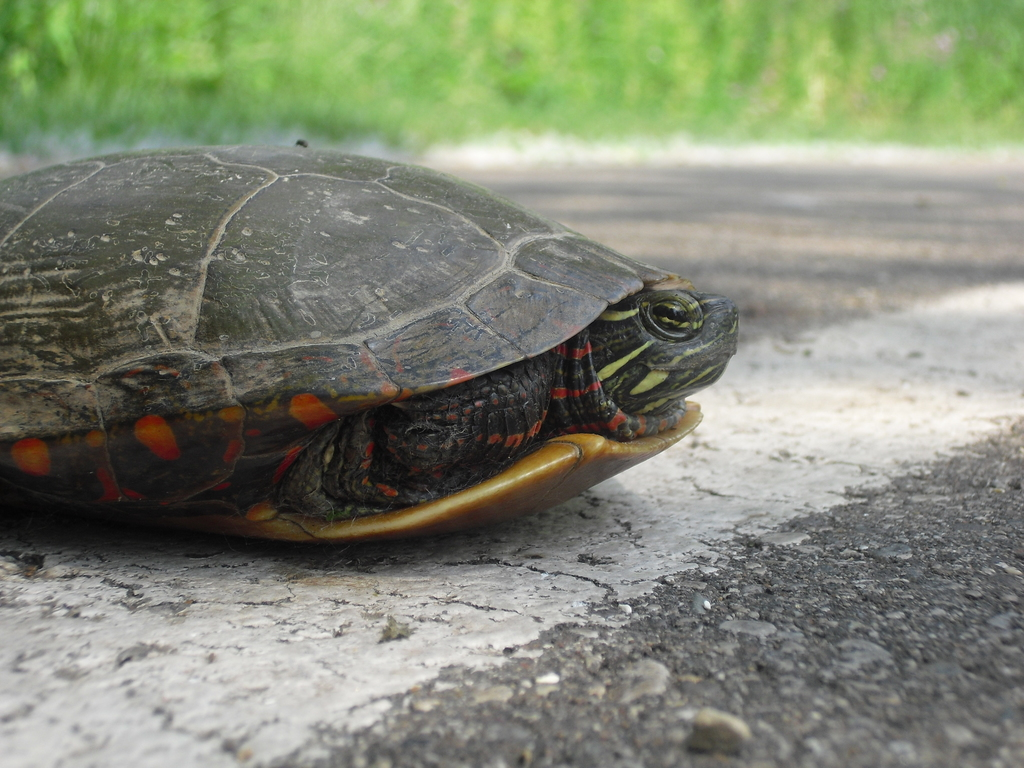Sea turtles: (0, 139, 738, 538)
